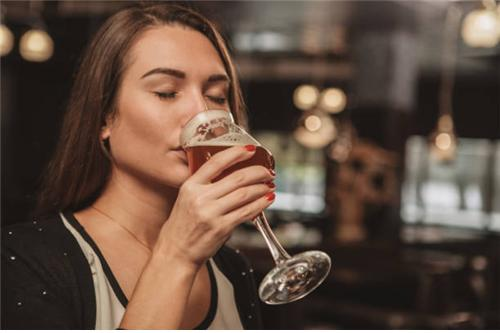alcohol: (179, 108, 331, 305)
